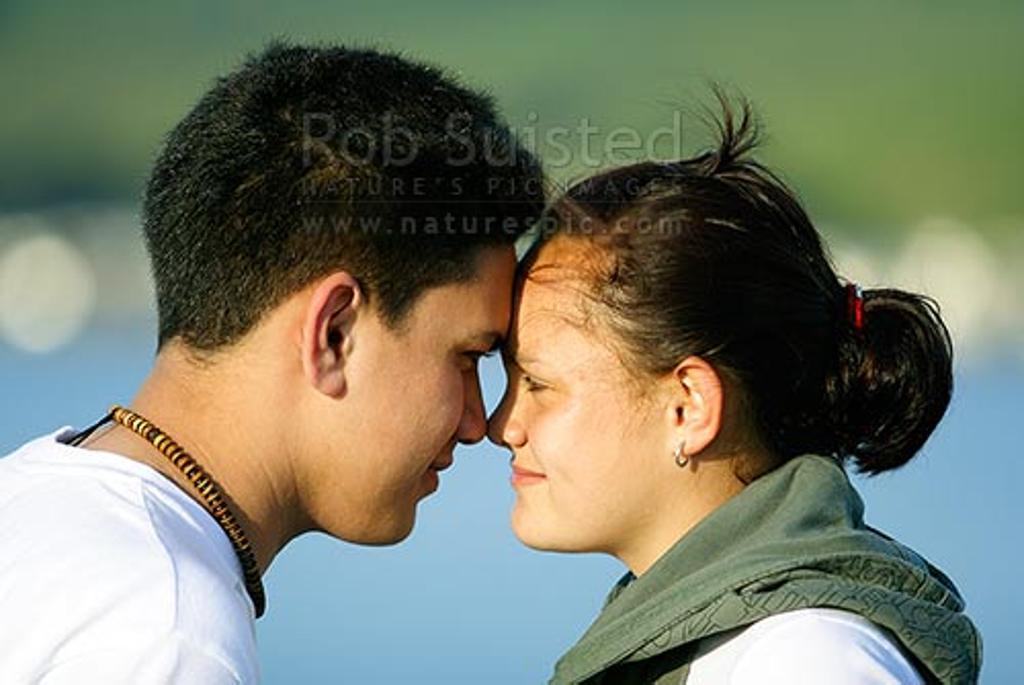face: (490, 230, 672, 550), (356, 224, 520, 548)
